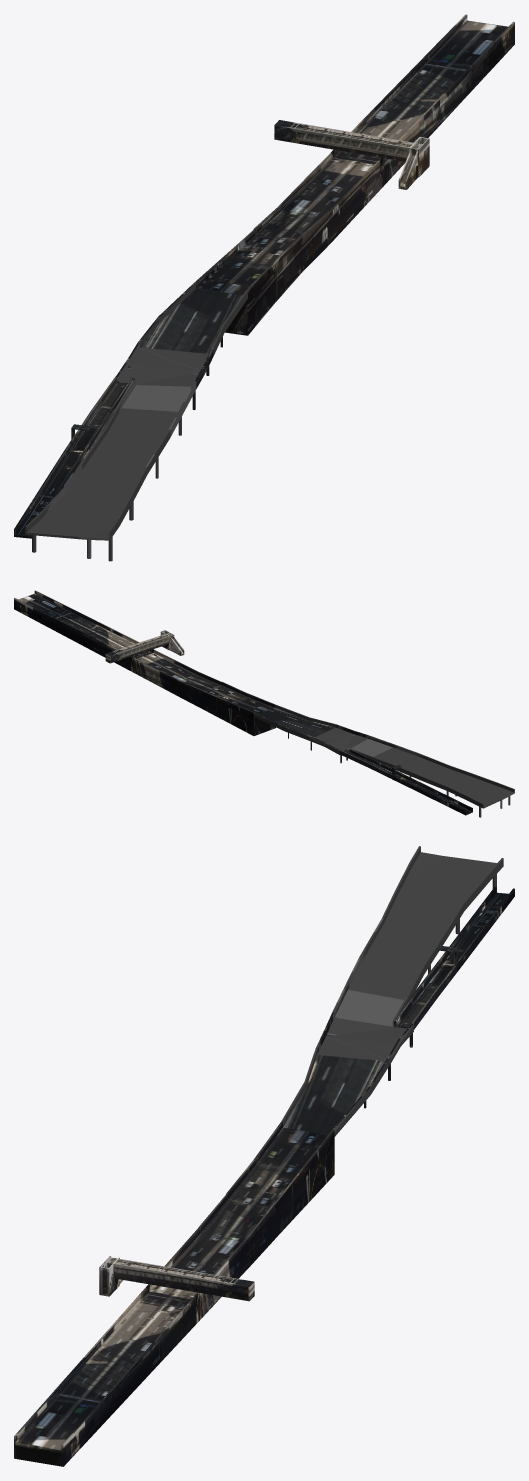
File: 53393585_brid_6697_op.fbx
3 views of the same model, one above another, from view 1: azimuth 90°, elevation 25°; view 2: azimuth 150°, elevation 25°; view 3: azimuth 270°, elevation 25° (orthographic). The views are drawn at different scales.
Parts seen in each view (by area): view 1: brid_9706480a-4797-4edd-b771-8937cc6364dd, brid_4faf5b9f-023b-4530-94b9-bda3adaab949, brid_97ff70f9-2ac0-4c89-99fb-187ac42aef8d, brid_16419b27-28d6-4fca-a224-cb9022381c49, brid_bd0b4192-ceb3-4af9-a1c8-520c37c3d41c; view 2: brid_9706480a-4797-4edd-b771-8937cc6364dd, brid_4faf5b9f-023b-4530-94b9-bda3adaab949, brid_97ff70f9-2ac0-4c89-99fb-187ac42aef8d, brid_bd0b4192-ceb3-4af9-a1c8-520c37c3d41c, brid_16419b27-28d6-4fca-a224-cb9022381c49; view 3: brid_9706480a-4797-4edd-b771-8937cc6364dd, brid_4faf5b9f-023b-4530-94b9-bda3adaab949, brid_97ff70f9-2ac0-4c89-99fb-187ac42aef8d, brid_bd0b4192-ceb3-4af9-a1c8-520c37c3d41c, brid_16419b27-28d6-4fca-a224-cb9022381c49.
Part boxes in pixels (bbox=[...]): brid_9706480a-4797-4edd-b771-8937cc6364dd: bbox=[194, 14, 514, 335]; brid_4faf5b9f-023b-4530-94b9-bda3adaab949: bbox=[25, 379, 196, 561]; brid_97ff70f9-2ac0-4c89-99fb-187ac42aef8d: bbox=[115, 282, 247, 409]; brid_16419b27-28d6-4fca-a224-cb9022381c49: bbox=[274, 120, 429, 189]; brid_bd0b4192-ceb3-4af9-a1c8-520c37c3d41c: bbox=[14, 377, 133, 538]; brid_9706480a-4797-4edd-b771-8937cc6364dd: bbox=[14, 590, 275, 735]; brid_4faf5b9f-023b-4530-94b9-bda3adaab949: bbox=[348, 735, 514, 817]; brid_97ff70f9-2ac0-4c89-99fb-187ac42aef8d: bbox=[254, 704, 368, 763]; brid_bd0b4192-ceb3-4af9-a1c8-520c37c3d41c: bbox=[340, 747, 472, 815]; brid_16419b27-28d6-4fca-a224-cb9022381c49: bbox=[105, 630, 184, 663]; brid_9706480a-4797-4edd-b771-8937cc6364dd: bbox=[14, 1122, 334, 1466]; brid_4faf5b9f-023b-4530-94b9-bda3adaab949: bbox=[332, 846, 503, 1026]; brid_97ff70f9-2ac0-4c89-99fb-187ac42aef8d: bbox=[281, 1012, 413, 1136]; brid_bd0b4192-ceb3-4af9-a1c8-520c37c3d41c: bbox=[395, 887, 514, 1029]; brid_16419b27-28d6-4fca-a224-cb9022381c49: bbox=[99, 1256, 254, 1301].
Bounding box in the file's own units: 418 × 22.14 × 158.
